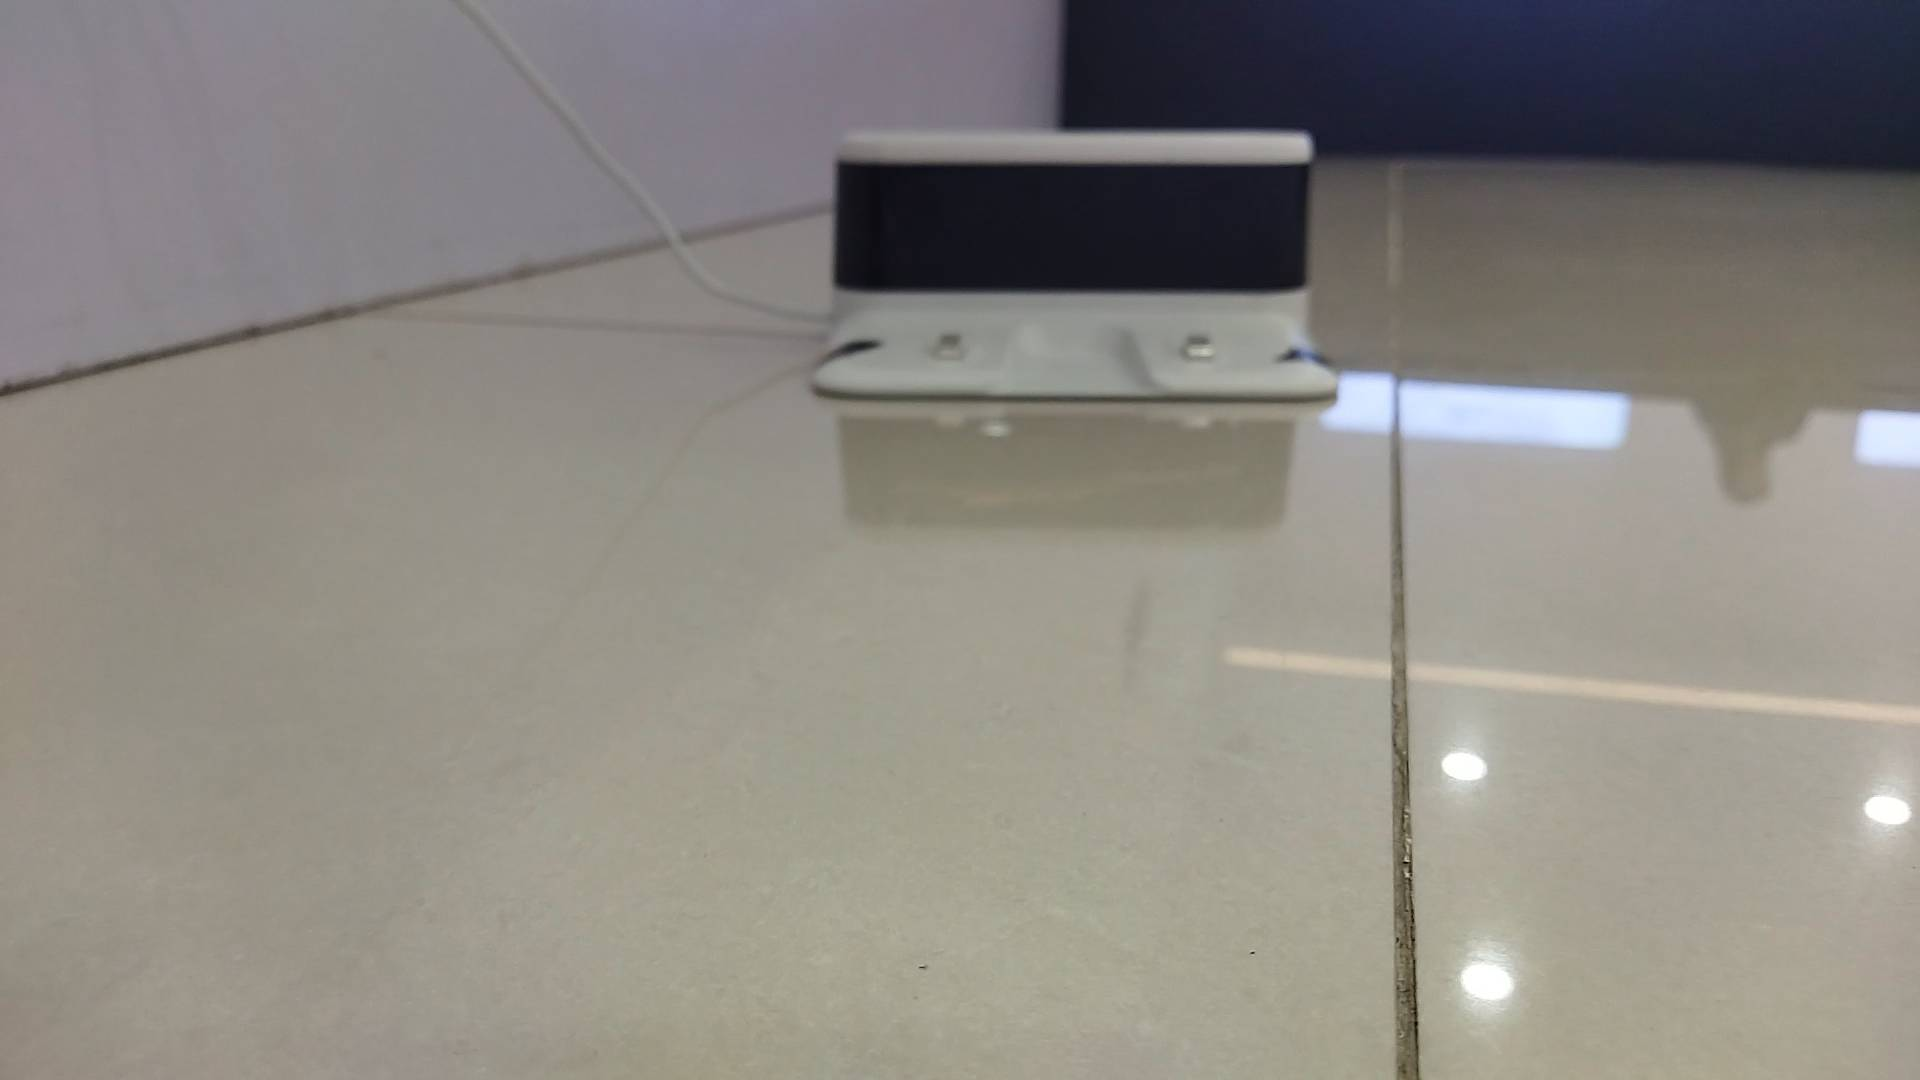recharge seat: (810, 127, 1344, 402)
